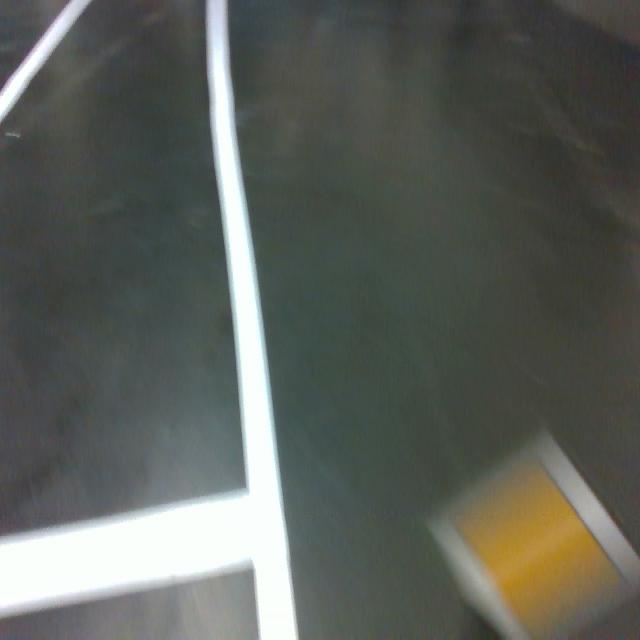priority-sign: (420, 422, 640, 640)
